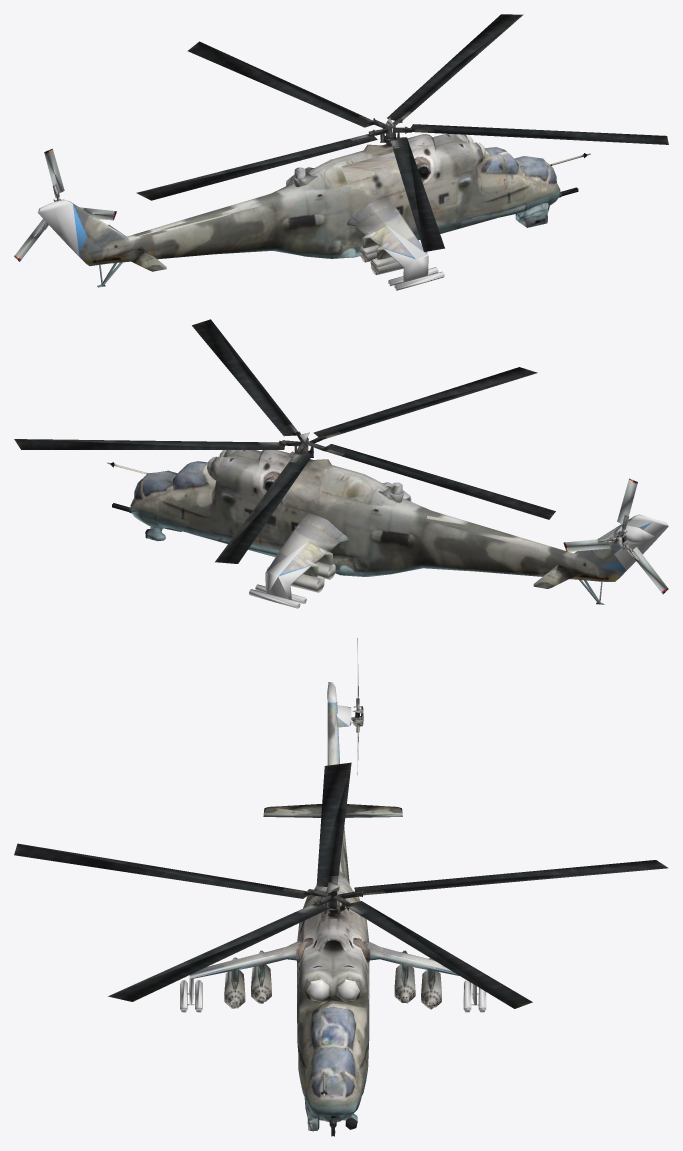
The picture shows the model from 3 angles, top to bottom: view 1: azimuth 30°, elevation 25°; view 2: azimuth 150°, elevation 25°; view 3: azimuth 270°, elevation 25°; orthographic projection. The views are drawn at different scales.
Parts seen in each view (by area): view 1: g_mi24_hull, g_mi24_rotor, g_mi24_rotor2; view 2: g_mi24_hull, g_mi24_rotor, g_mi24_rotor2; view 3: g_mi24_hull, g_mi24_rotor.
Boxes of the visible parts, x1,y1,x2,y2 form: g_mi24_hull: [37, 133, 590, 290]; g_mi24_rotor: [136, 14, 668, 251]; g_mi24_rotor2: [14, 148, 116, 261]; g_mi24_hull: [107, 450, 668, 608]; g_mi24_rotor: [14, 319, 555, 563]; g_mi24_rotor2: [563, 478, 668, 594]; g_mi24_hull: [180, 682, 486, 1136]; g_mi24_rotor: [14, 762, 668, 1008].
Size of the model in its own units: 17.37 by 5.08 by 14.23.
4 materials, 3 textured.
